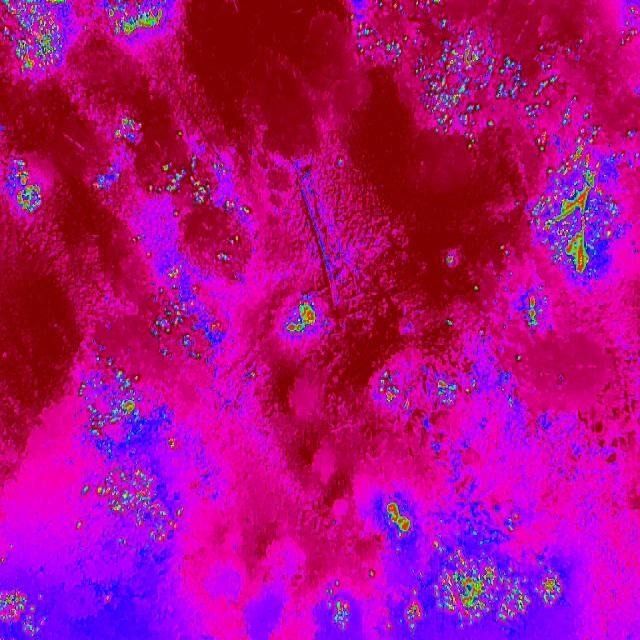fire: (502, 39, 640, 283), (354, 1, 524, 157), (66, 336, 184, 545), (98, 117, 256, 225), (389, 545, 566, 640), (0, 0, 177, 78), (148, 262, 214, 362), (376, 366, 460, 426), (438, 249, 486, 337), (0, 149, 43, 221), (0, 582, 43, 640), (320, 572, 356, 636), (381, 493, 416, 538), (284, 296, 318, 340), (516, 285, 542, 330)
